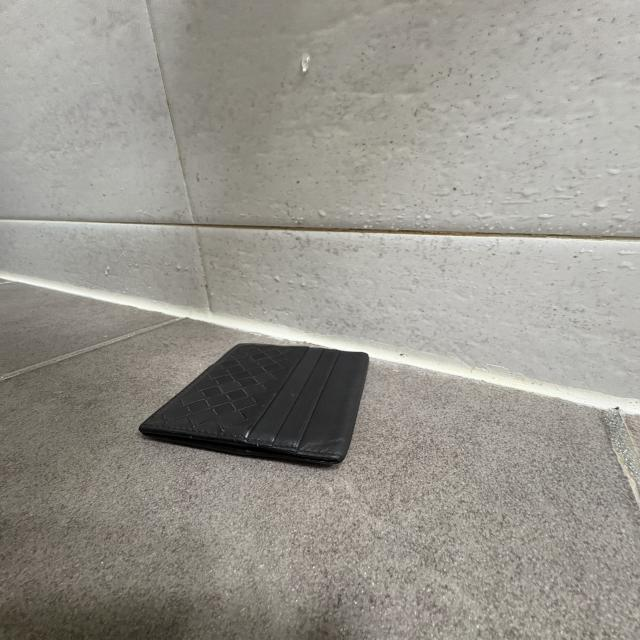wallet: (140, 341, 369, 469)
